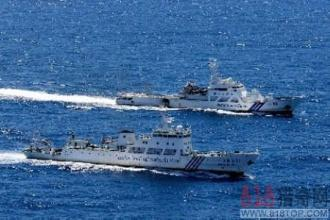warship: (22, 119, 259, 174), (118, 72, 309, 113)
